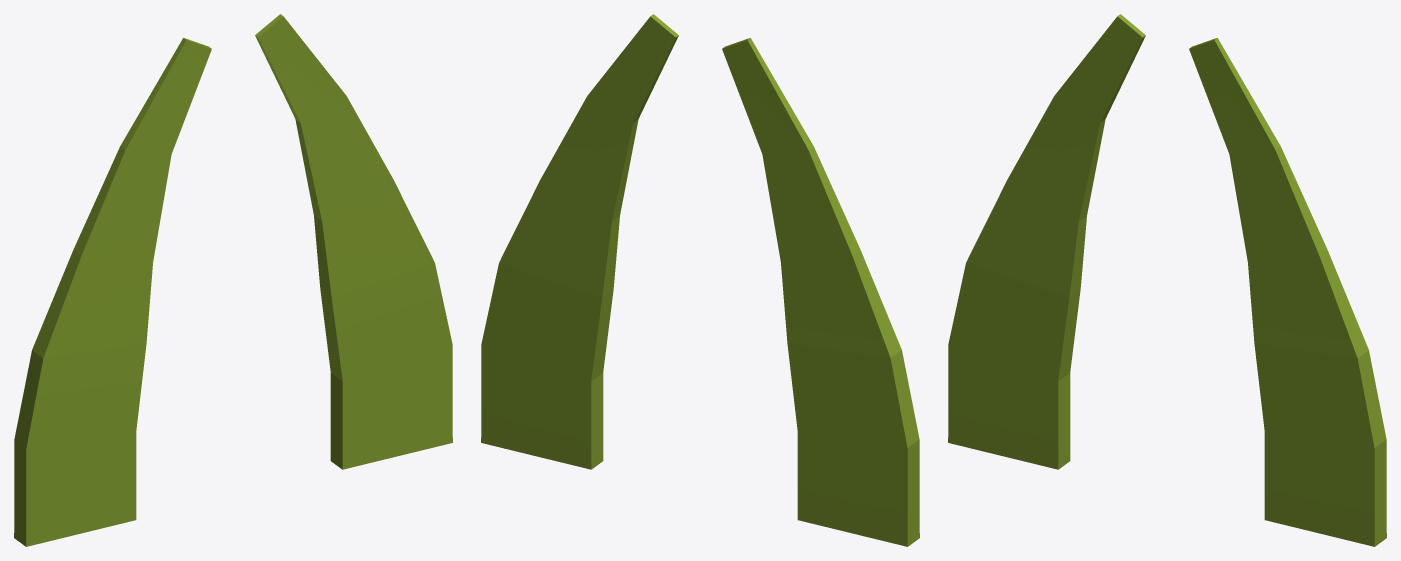
File: Grass1.obj
3 views of the same model, side by side, from view 1: azimuth 30°, elevation 25°; view 2: azimuth 150°, elevation 25°; view 3: azimuth 330°, elevation 25° (orthographic).
Visible parts, largest first — view 1: Grass1_Cube; view 2: Grass1_Cube; view 3: Grass1_Cube.
Boxes of the visible parts, x1,y1,x2,y2 form: Grass1_Cube: (14,14,452,546); Grass1_Cube: (481,14,919,546); Grass1_Cube: (948,14,1386,546).
Bounding box in the file's own units: 0.2041 × 0.2119 × 0.00999.
